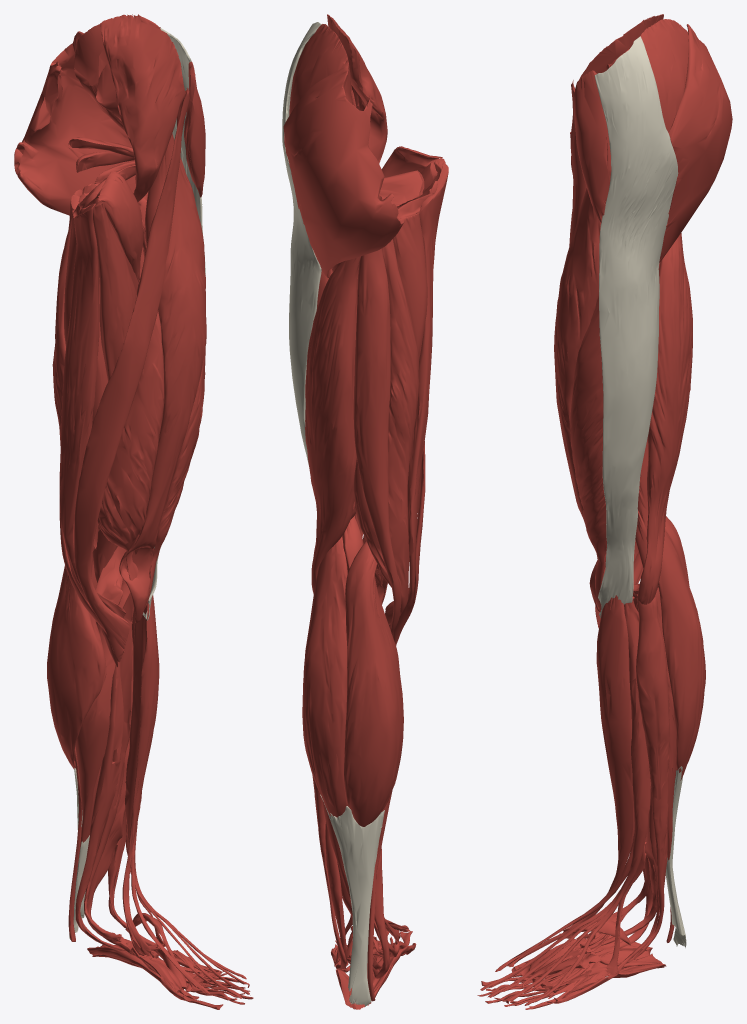
Rendered from muscular.lower_limb_left.glb.
3 renders of one model, left to right at view 1: azimuth 30°, elevation 25°; view 2: azimuth 150°, elevation 25°; view 3: azimuth 270°, elevation 25°, orthographic. The views are drawn at different scales.
Parts seen in each view (by area): view 1: left_rectus_femoris, left_sartorius, left_gluteus_maximus, left_iliacus, left_gracilis, left_vastus_medialis, medial_head_of_left_gastrocnemius, left_tibialis_anterior, left_adductor_longus, left_flexor_digitorum_longus, left_soleus, left_tibialis_posterior (+20 smaller); view 2: left_gluteus_maximus, medial_head_of_left_gastrocnemius, long_head_of_left_biceps_femoris, left_semitendinosus, lateral_head_of_left_gastrocnemius, left_semimembranosus, left_iliotibial_tract, left_calcaneal_tendon, left_gracilis, left_adductor_magnus, left_gluteus_medius, left_iliacus (+10 smaller); view 3: left_iliotibial_tract, long_head_of_left_biceps_femoris, left_gluteus_maximus, left_tibialis_anterior, left_rectus_femoris, lateral_head_of_left_gastrocnemius, left_vastus_lateralis, left_fibularis_longus, left_extensor_digitorum_longus, left_tensor_fasciae_latae, left_gluteus_medius, left_flexor_digitorum_longus (+14 smaller).
Boxes of the visible parts, <box> form: left_rectus_femoris: <box>119,133,206,622</box>; left_sartorius: <box>74,87,189,662</box>; left_gluteus_maximus: <box>14,31,147,228</box>; left_iliacus: <box>100,14,185,202</box>; left_gracilis: <box>59,203,126,618</box>; left_vastus_medialis: <box>97,227,164,580</box>; medial_head_of_left_gastrocnemius: <box>47,525,106,769</box>; left_tibialis_anterior: <box>122,574,159,955</box>; left_adductor_longus: <box>93,201,136,381</box>; left_flexor_digitorum_longus: <box>75,661,253,1004</box>; left_soleus: <box>75,569,133,846</box>; left_tibialis_posterior: <box>84,593,164,955</box>; left_gluteus_maximus: <box>283,66,404,277</box>; medial_head_of_left_gastrocnemius: <box>344,541,403,826</box>; long_head_of_left_biceps_femoris: <box>305,256,360,593</box>; left_semitendinosus: <box>353,248,401,633</box>; lateral_head_of_left_gastrocnemius: <box>302,536,347,817</box>; left_semimembranosus: <box>353,239,419,625</box>; left_iliotibial_tract: <box>282,22,321,465</box>; left_calcaneal_tendon: <box>320,794,384,1006</box>; left_gracilis: <box>385,162,448,626</box>; left_adductor_magnus: <box>332,193,432,360</box>; left_gluteus_medius: <box>289,24,353,115</box>; left_iliacus: <box>327,14,387,163</box>; left_iliotibial_tract: <box>594,36,678,617</box>; long_head_of_left_biceps_femoris: <box>637,233,692,604</box>; left_gluteus_maximus: <box>659,24,732,262</box>; left_tibialis_anterior: <box>559,595,634,938</box>; left_rectus_femoris: <box>554,188,600,611</box>; lateral_head_of_left_gastrocnemius: <box>658,531,705,780</box>; left_vastus_lateralis: <box>570,296,606,610</box>; left_fibularis_longus: <box>575,594,669,965</box>; left_extensor_digitorum_longus: <box>480,596,650,1005</box>; left_tensor_fasciae_latae: <box>574,70,611,223</box>; left_gluteus_medius: <box>606,19,688,132</box>; left_flexor_digitorum_longus: <box>477,868,652,1009</box>.
Size of the model in its own units: 0.1676 by 1.03 by 0.2463.
